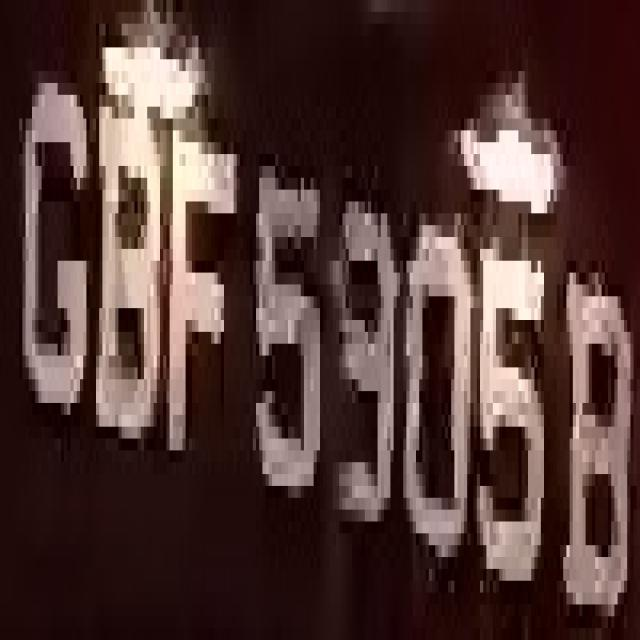0: (406, 142, 474, 545)
5: (246, 119, 320, 534), (2, 3, 3, 12)
9: (326, 154, 397, 557)
B: (93, 83, 157, 462), (3, 4, 3, 12)
F: (166, 83, 234, 486)
G: (13, 59, 86, 427)
